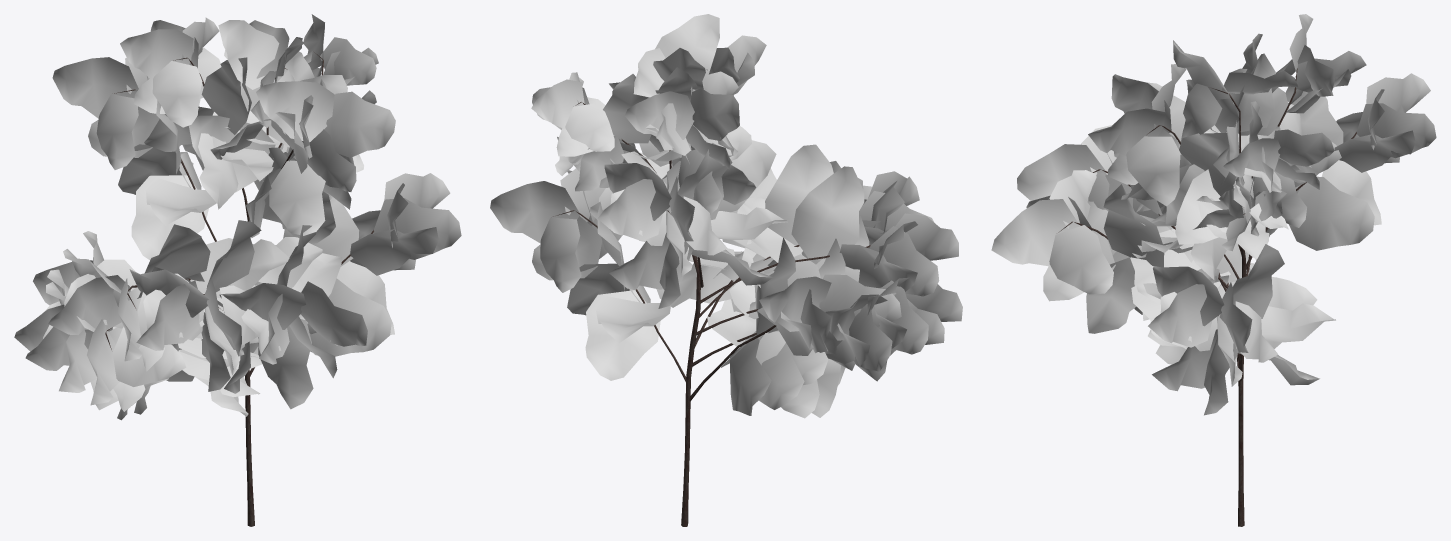
Rendered from Tree2.fbx.
3 views of the same model, side by side, from view 1: azimuth 30°, elevation 25°; view 2: azimuth 150°, elevation 25°; view 3: azimuth 270°, elevation 25° (orthographic). The views are drawn at different scales.
Parts seen in each view (by area): view 1: Tree2; view 2: Tree2; view 3: Tree2.
Boxes of the visible parts, x1,y1,x2,y2 form: Tree2: [14, 14, 461, 526]; Tree2: [490, 14, 962, 526]; Tree2: [991, 14, 1436, 526].
Size of the model in its own units: 2.62 by 2.87 by 2.38.
